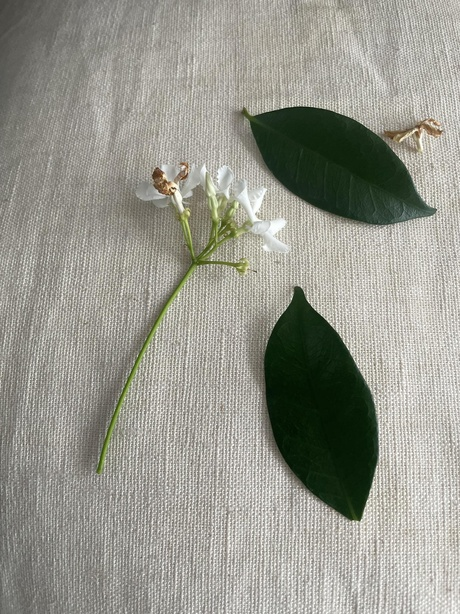leaf: (257, 275, 386, 527), (242, 94, 439, 230)
